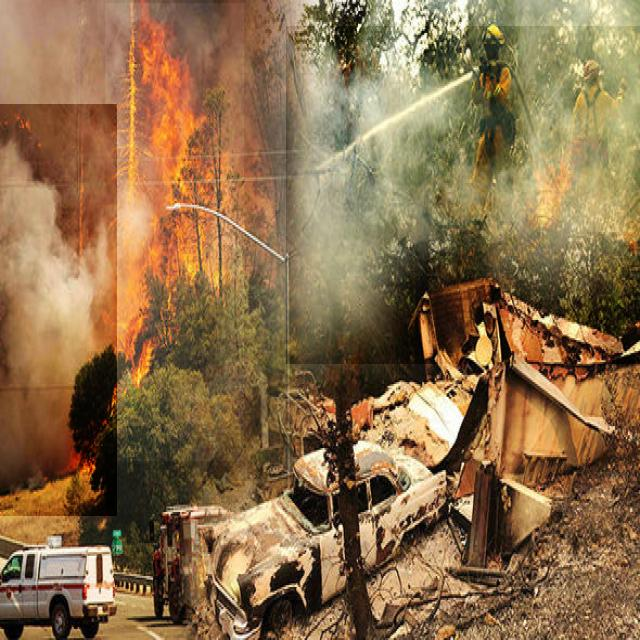Fire: (105, 3, 244, 461)
Smoke: (286, 26, 640, 364), (0, 104, 117, 516)
